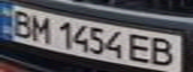1: (51, 18, 75, 48)
4: (106, 28, 127, 61), (69, 21, 90, 53)
5: (87, 25, 109, 56)
B: (148, 35, 184, 69), (6, 8, 36, 38)
E: (124, 31, 157, 64)
M: (27, 14, 54, 44)
